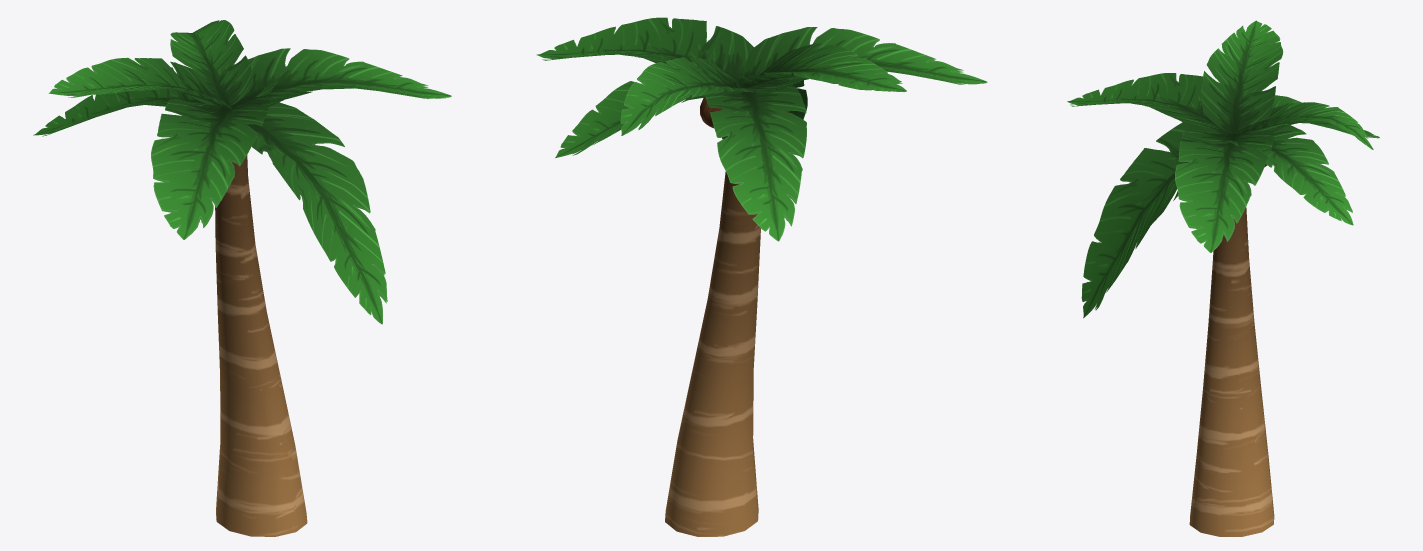
3 views of the same model, side by side, from view 1: azimuth 30°, elevation 25°; view 2: azimuth 150°, elevation 25°; view 3: azimuth 270°, elevation 25° (orthographic). The views are drawn at different scales.
Visible parts, largest first — view 1: tree2, leave3.001, leave4.001, leave2.001, leave6.001, leave7.001, leave5.001; view 2: tree2, leave5.001, leave2.001, leave4.001, leave7.001, leave6.001, leave8.001; view 3: tree2, leave2.001, leave3.001, leave6.001, leave8.001, leave4.001, leave7.001, leave5.001.
Part boxes in pixels (x1,y1,x2,y2): tree2: (215, 155, 307, 536); leave3.001: (245, 102, 387, 324); leave4.001: (151, 99, 268, 239); leave2.001: (230, 48, 451, 107); leave6.001: (48, 57, 231, 108); leave7.001: (170, 20, 253, 107); leave5.001: (33, 67, 206, 136); tree2: (665, 91, 760, 536); leave5.001: (705, 85, 806, 241); leave2.001: (536, 17, 753, 80); leave4.001: (743, 27, 987, 92); leave7.001: (620, 57, 756, 135); leave6.001: (729, 43, 906, 91); leave8.001: (555, 61, 742, 157); tree2: (1189, 207, 1274, 536); leave2.001: (1175, 127, 1274, 252); leave3.001: (1081, 122, 1196, 318); leave6.001: (1201, 20, 1283, 133); leave8.001: (1224, 123, 1353, 225); leave4.001: (1067, 73, 1232, 134); leave7.001: (1233, 102, 1373, 149); leave5.001: (1267, 95, 1379, 138).
Bounding box in the file's own units: 8.43 × 9.66 × 7.78.
Materials: 3 (3 with a texture image).
